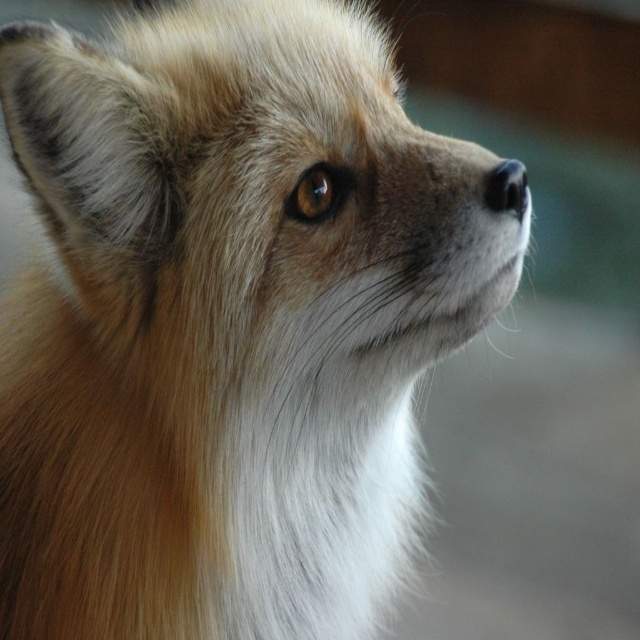Fox: (0, 0, 543, 639)
